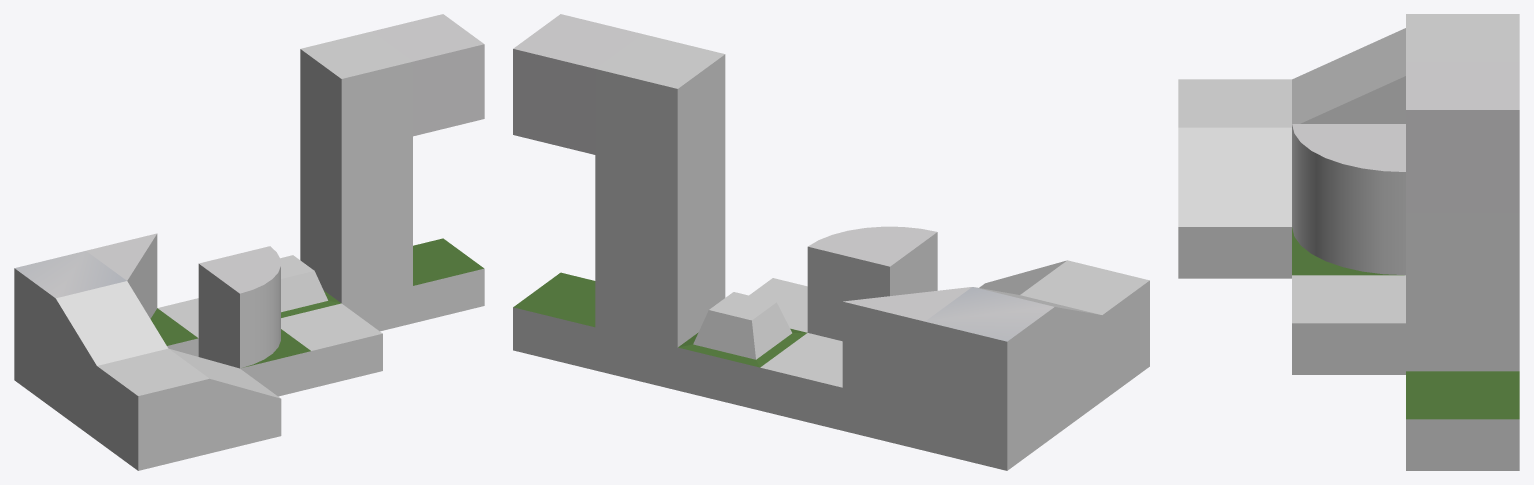
Rendered from tileset.fbx.
3 views of the same model, side by side, from view 1: azimuth 30°, elevation 25°; view 2: azimuth 150°, elevation 25°; view 3: azimuth 270°, elevation 25° (orthographic). The views are drawn at different scales.
Visible parts, largest first — view 1: wall, door, curve, step, down, platform, road, up, diag, knob, floor; view 2: wall, platform, door, diag, curve, knob, step, floor, down, road, up; view 3: door, wall, up, curve, road, down, step.
Part boxes in pixels (x1,y1,x2,y2): wall: [300, 31, 412, 331]; door: [372, 14, 484, 323]; curve: [198, 246, 311, 396]; step: [97, 348, 209, 470]; down: [55, 281, 168, 440]; platform: [14, 251, 126, 410]; road: [281, 303, 382, 388]; up: [169, 349, 281, 453]; diag: [86, 233, 198, 356]; knob: [280, 255, 341, 317]; floor: [157, 298, 198, 337]; wall: [595, 34, 725, 390]; platform: [925, 287, 1054, 470]; door: [513, 14, 642, 370]; diag: [842, 287, 971, 450]; curve: [807, 226, 937, 341]; knob: [677, 292, 807, 410]; step: [1020, 260, 1149, 400]; floor: [760, 333, 842, 430]; down: [975, 287, 1102, 435]; road: [749, 278, 807, 332]; up: [979, 260, 1066, 294]; door: [1406, 62, 1519, 470]; wall: [1406, 14, 1519, 371]; up: [1178, 127, 1291, 278]; curve: [1292, 124, 1405, 275]; road: [1292, 275, 1405, 374]; down: [1292, 28, 1405, 123]; step: [1178, 79, 1291, 127].
Size of the model in its own units: 1200 by 700 by 600.
